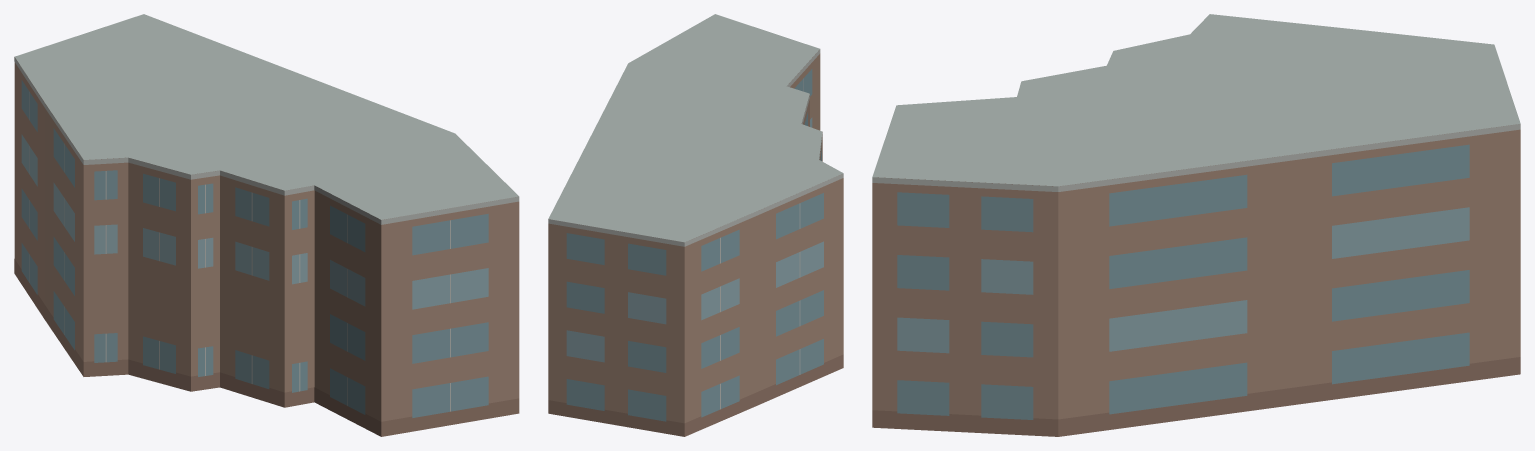
The model's file is survey-upis-33024218.glb.
The picture shows the model from 3 angles, left to right: view 1: azimuth 30°, elevation 25°; view 2: azimuth 150°, elevation 25°; view 3: azimuth 270°, elevation 25°; orthographic projection. The views are drawn at different scales.
Visible parts, largest first — view 1: survey-upis-33024218.tmp; view 2: survey-upis-33024218.tmp; view 3: survey-upis-33024218.tmp.
Boxes of the visible parts, x1,y1,x2,y2 form: survey-upis-33024218.tmp: (14,14,519,436); survey-upis-33024218.tmp: (548,14,843,436); survey-upis-33024218.tmp: (872,14,1520,436).
Size of the model in its own units: 15.65 by 10.6 by 24.88.
